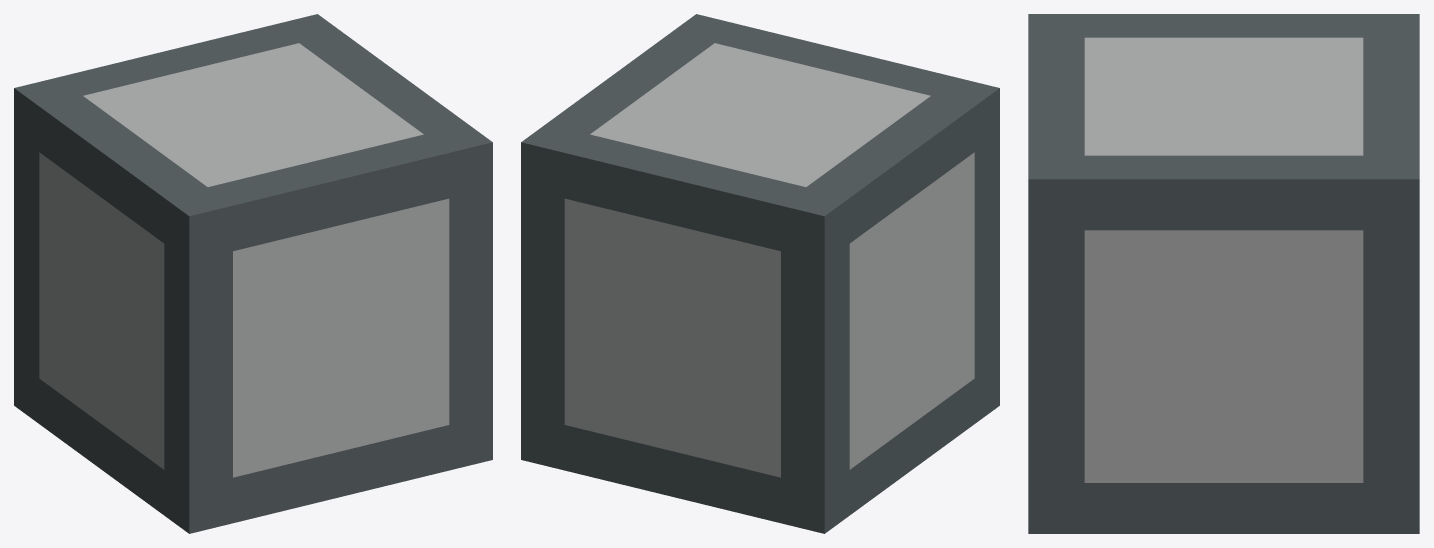
Rendered from crate3.FBX.
3 renders of one model, left to right at view 1: azimuth 30°, elevation 25°; view 2: azimuth 150°, elevation 25°; view 3: azimuth 270°, elevation 25°, orthographic. The views are drawn at different scales.
Parts seen in each view (by area): view 1: crate3; view 2: crate3; view 3: crate3.
Part boxes in pixels (x1,y1,x2,y2): crate3: (14, 14, 492, 533); crate3: (521, 14, 999, 533); crate3: (1028, 14, 1419, 533).
Size of the model in its own units: 2 by 2 by 2.
